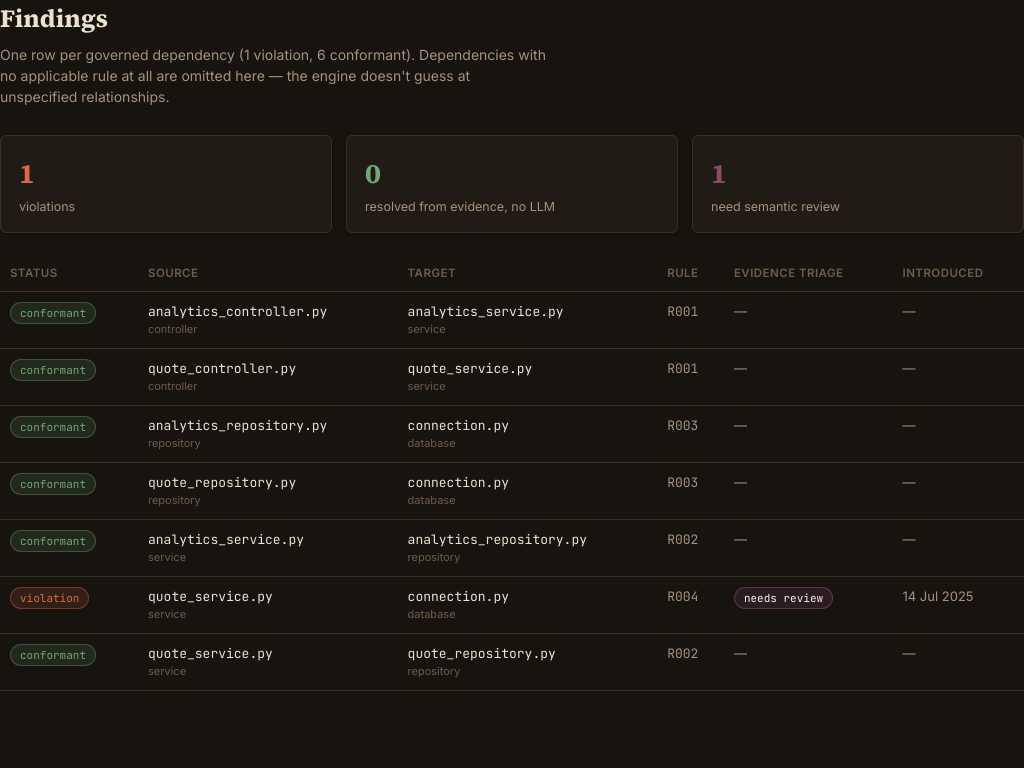
Scenario: Finding detail › keeps the raw JSON available for transparency
Click the row that starts with "violation" at point(512, 604), box [0, 576, 1023, 633]
(page scrolled)
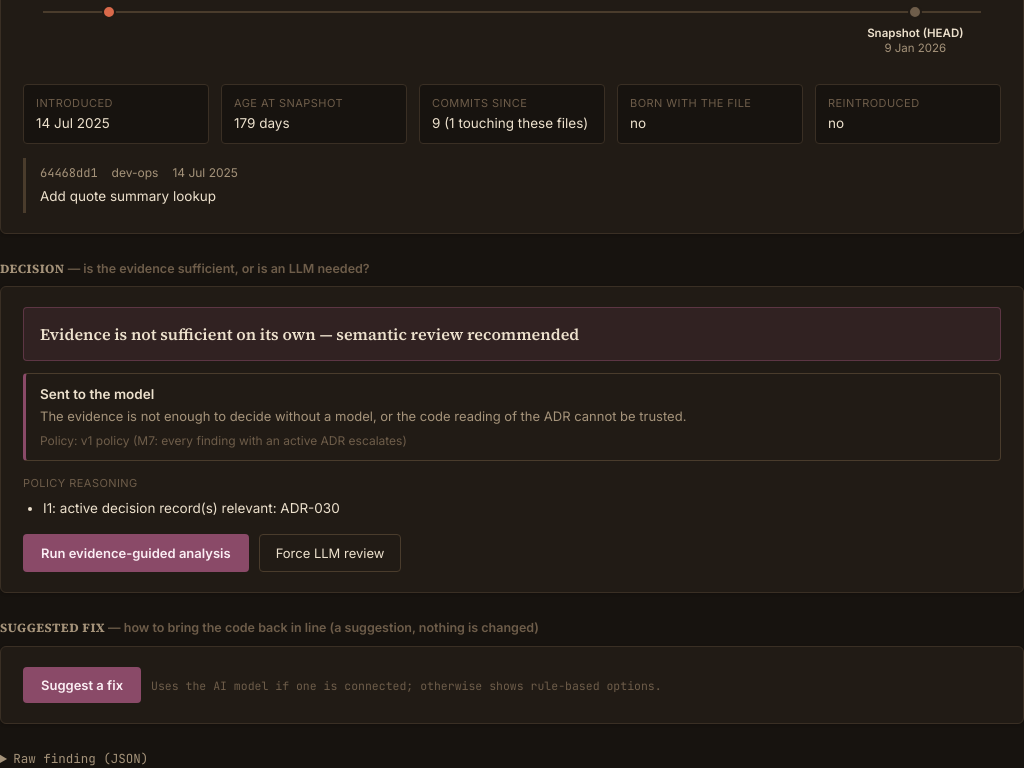
Expected: the element with test id "decision-panel" is shown, [23, 307, 1001, 572]
Click the heading "Raw finding (JSON)" at point(81, 758), box [13, 750, 148, 766]
(page scrolled)
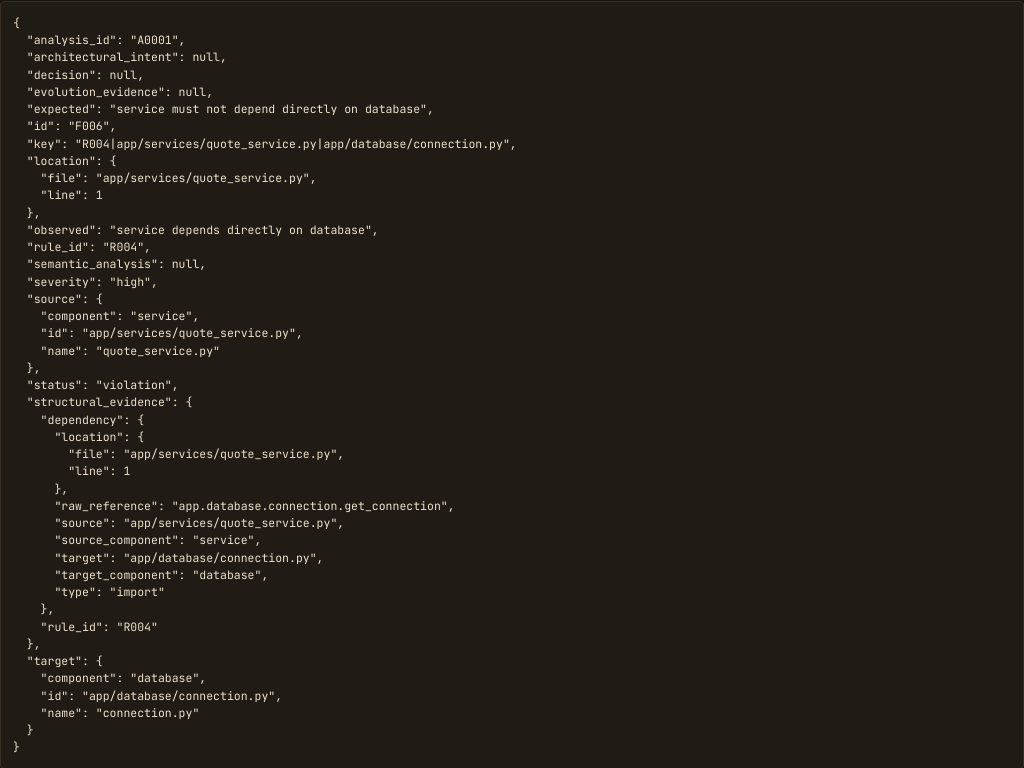
Expected: the text "\"id\": \"F006\"" is shown, [13, 15, 517, 754]
